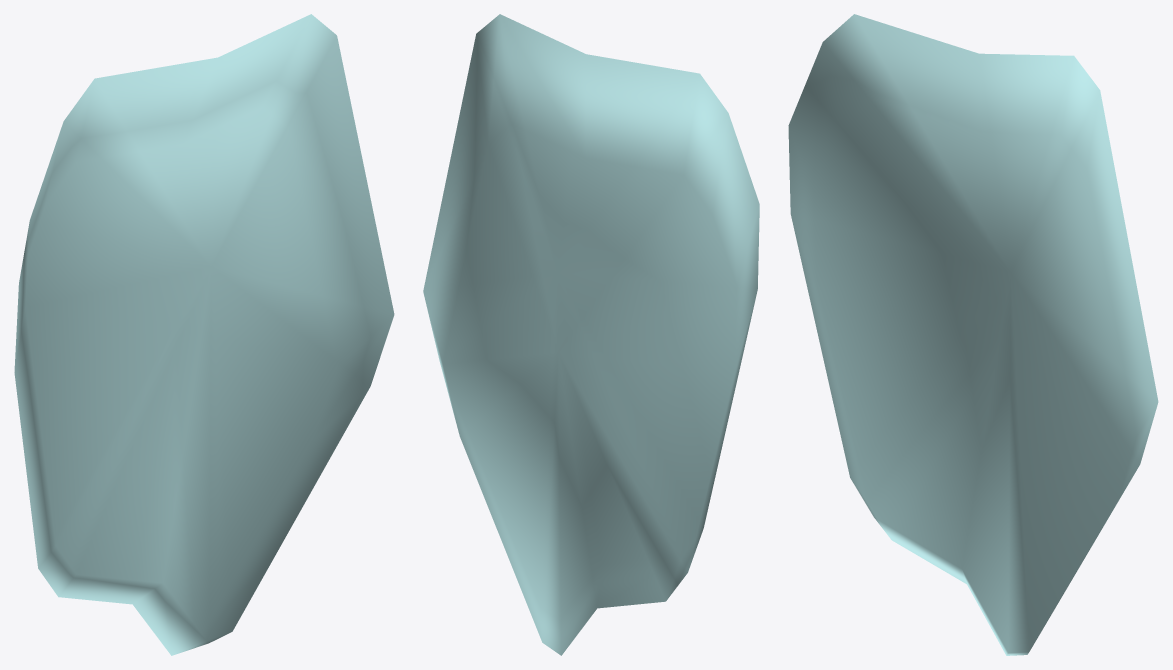
Rendered from Shard_5_R.fbx.
3 views of the same model, side by side, from view 1: azimuth 30°, elevation 25°; view 2: azimuth 150°, elevation 25°; view 3: azimuth 330°, elevation 25° (orthographic). The views are drawn at different scales.
Parts seen in each view (by area): view 1: Shard_Rounded_5; view 2: Shard_Rounded_5; view 3: Shard_Rounded_5.
Boxes of the visible parts, box(x1,y1,x2,y2) form: Shard_Rounded_5: box(14, 14, 394, 655); Shard_Rounded_5: box(423, 14, 759, 655); Shard_Rounded_5: box(788, 14, 1158, 655).
Bounding box in the file's own units: 584 × 981 × 101.
